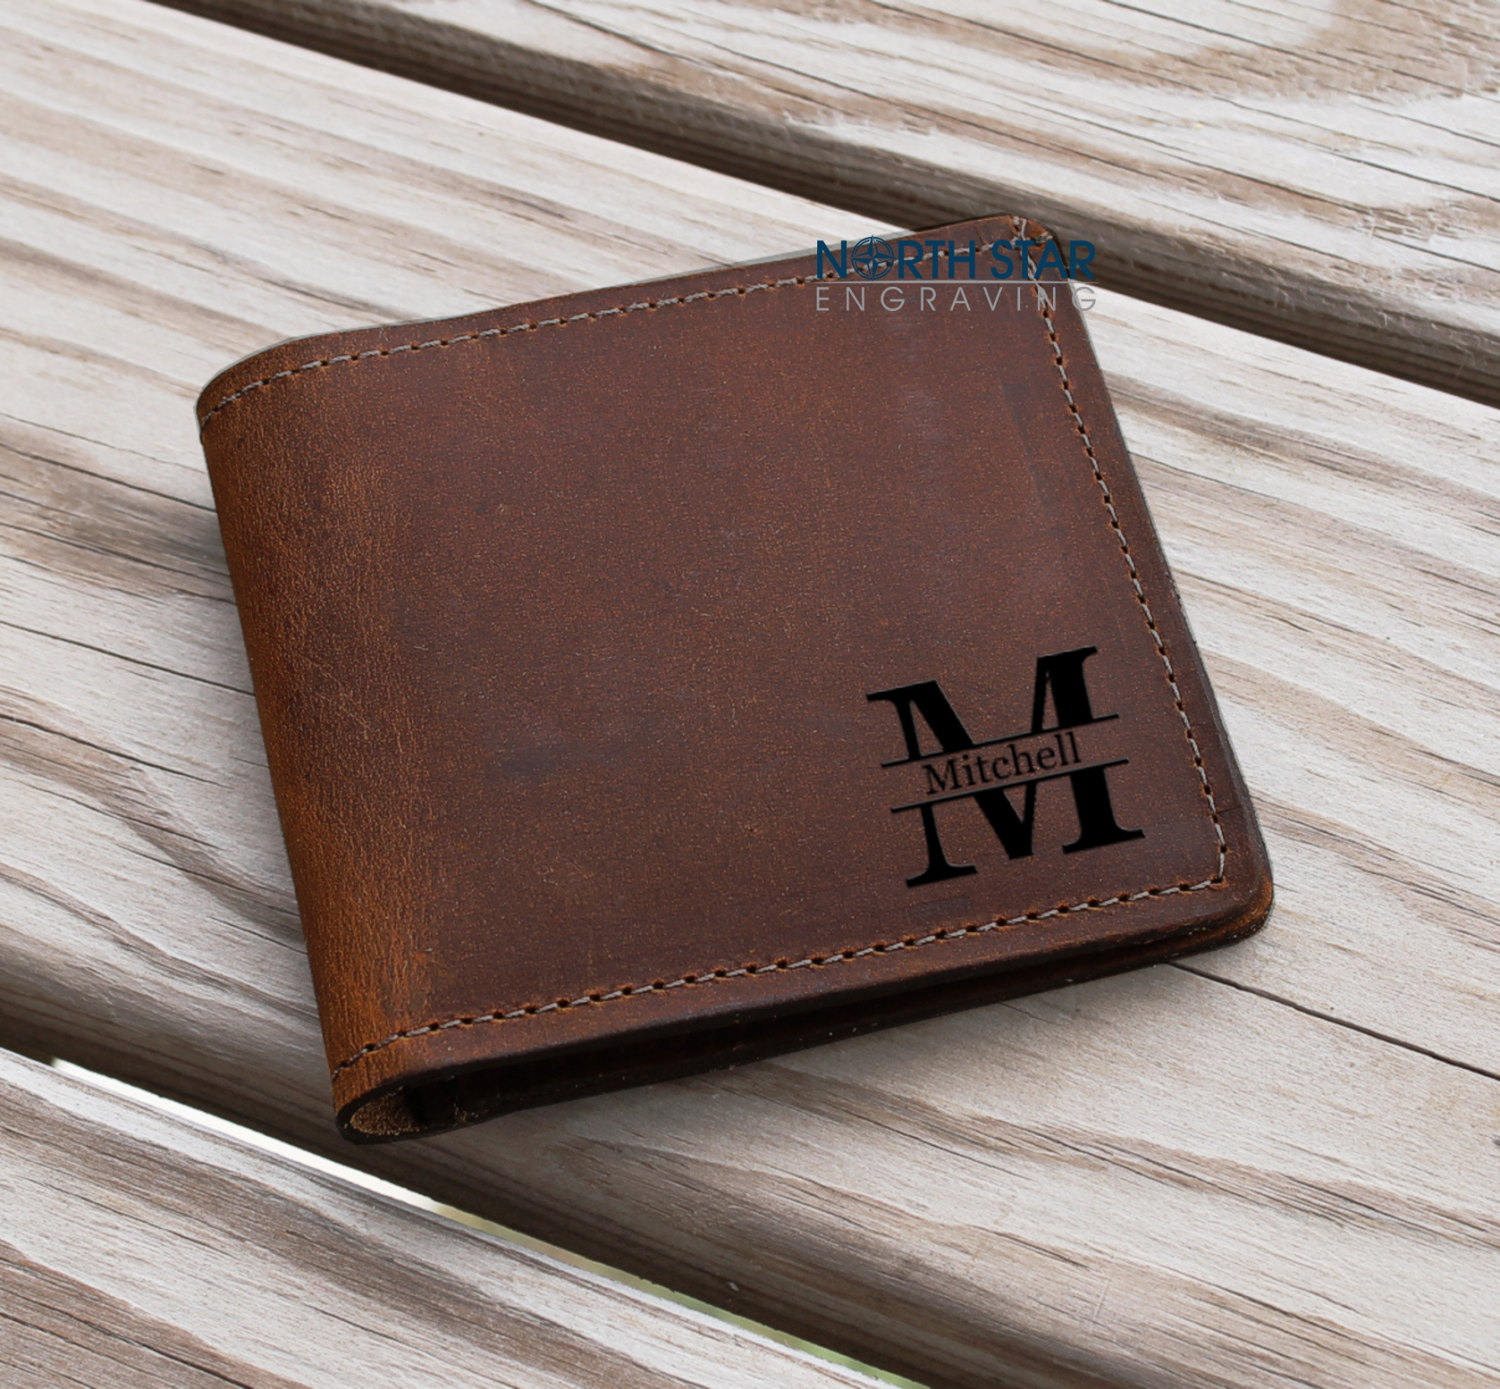monedero: (188, 206, 1280, 1155)
